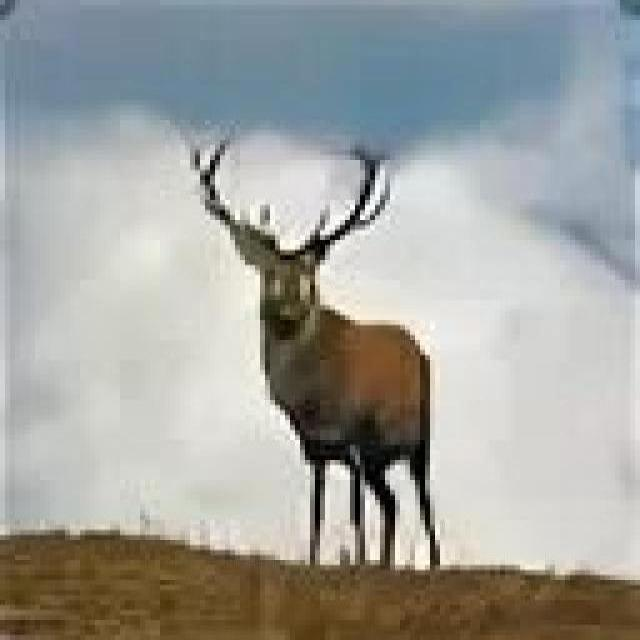deer: (166, 120, 561, 603)
